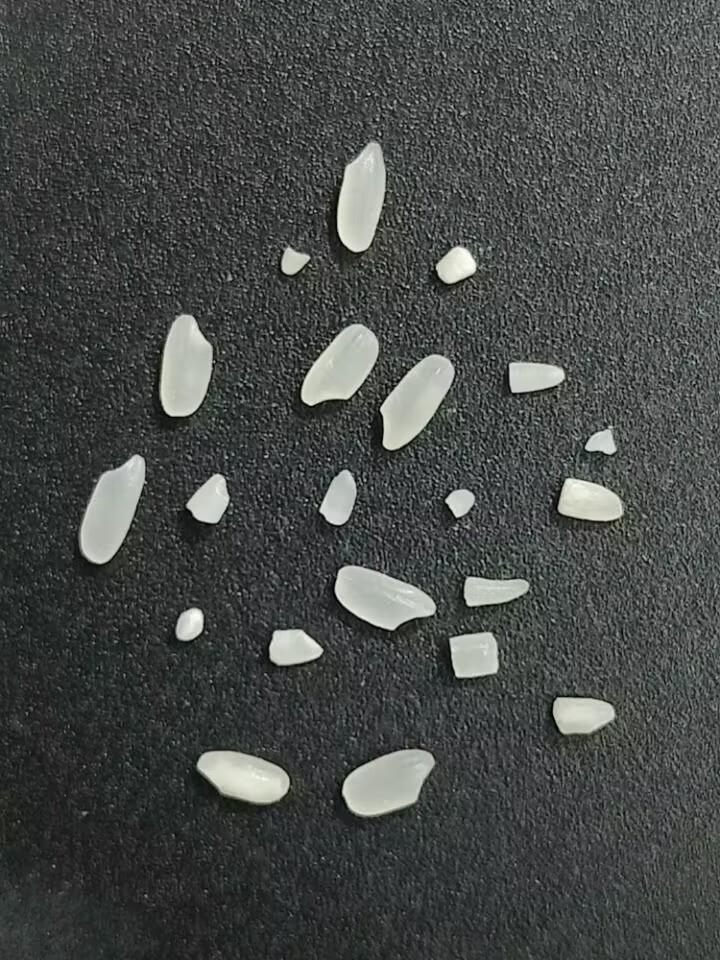broken: (554, 474, 632, 528), (180, 467, 236, 533), (313, 463, 364, 529), (458, 569, 538, 610), (501, 355, 573, 400), (263, 626, 325, 670), (446, 630, 500, 680), (551, 696, 616, 736), (431, 243, 478, 288), (169, 602, 207, 652), (580, 423, 626, 458), (275, 240, 316, 279), (440, 483, 478, 524)
rice: (373, 346, 459, 456), (75, 452, 149, 568), (289, 319, 383, 410), (153, 305, 224, 425), (330, 564, 439, 632), (333, 141, 389, 255), (340, 749, 435, 815), (194, 745, 296, 806)
